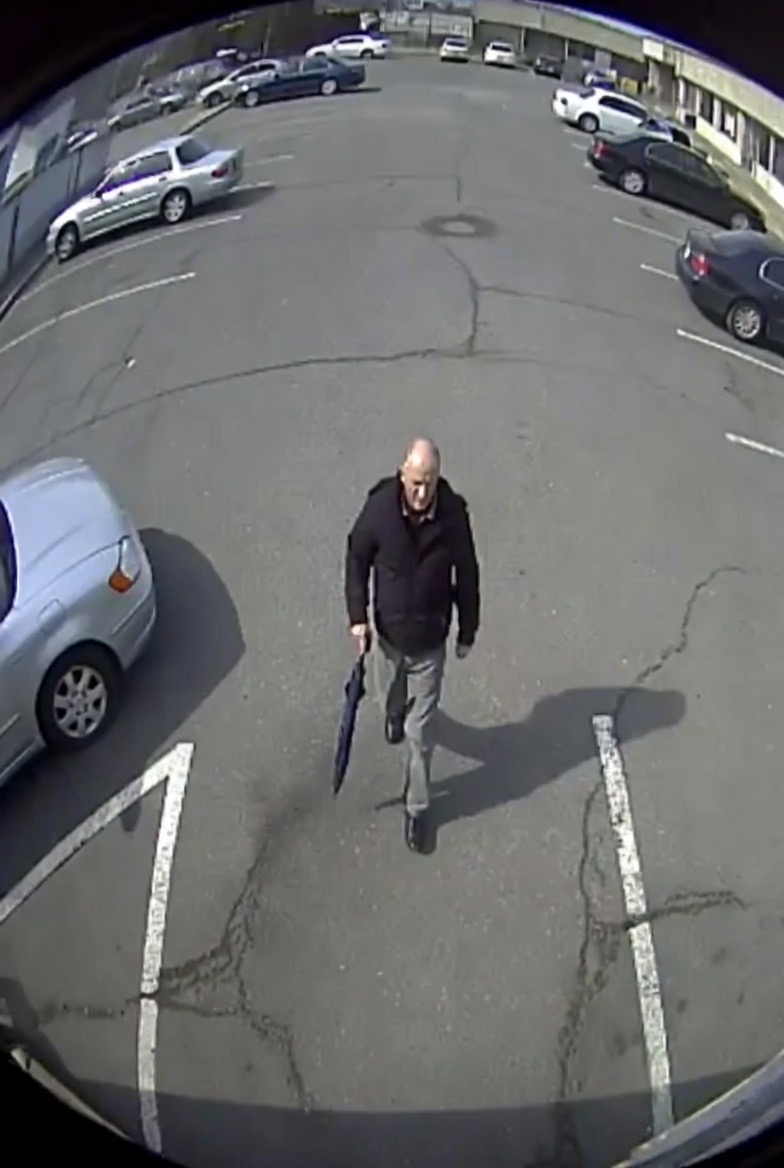person: (343, 437, 482, 854)
umbrella: (332, 649, 368, 798)
